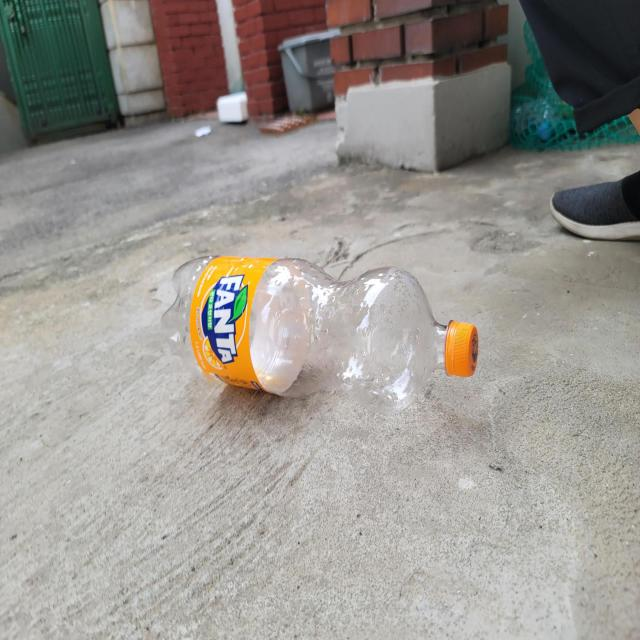plastic: (161, 256, 479, 415)
